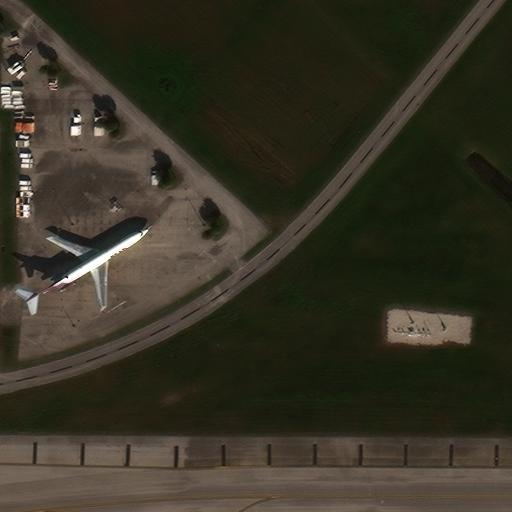Medium Civil Transport: (25, 225, 152, 309)
